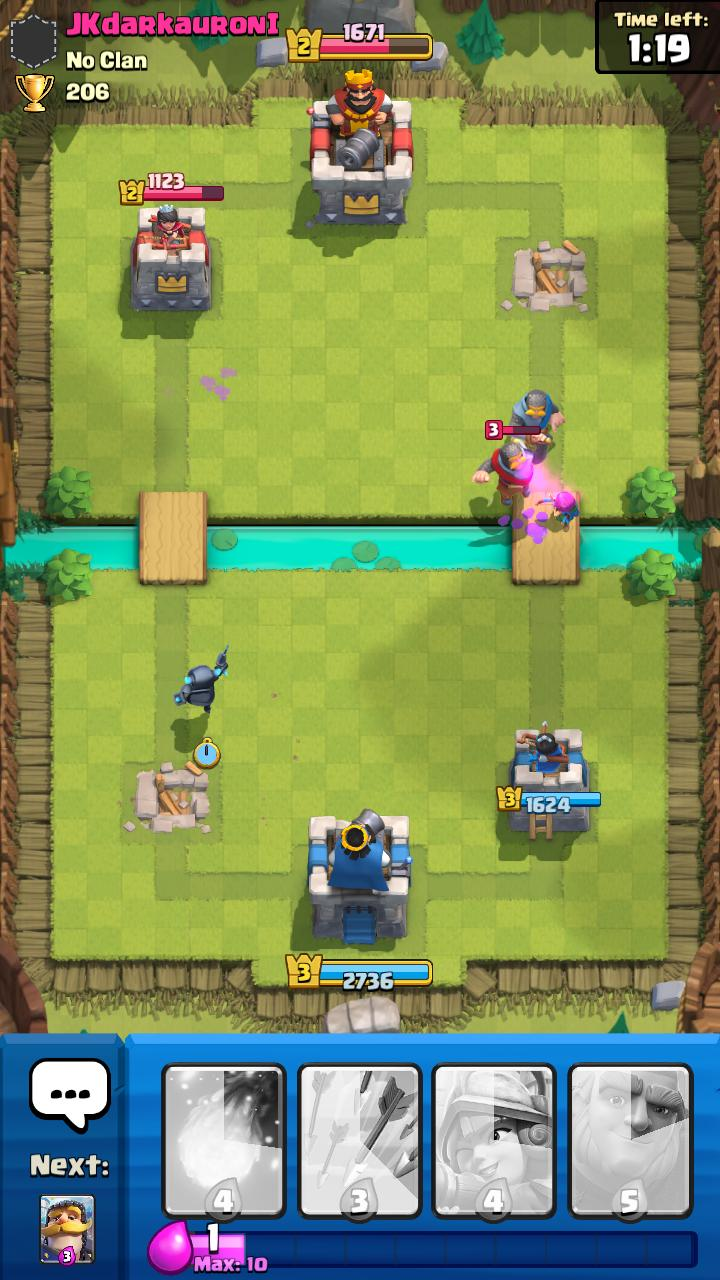ally: (173, 644, 230, 714), (509, 390, 565, 447), (535, 491, 579, 532)
enemy: (472, 421, 553, 506)
